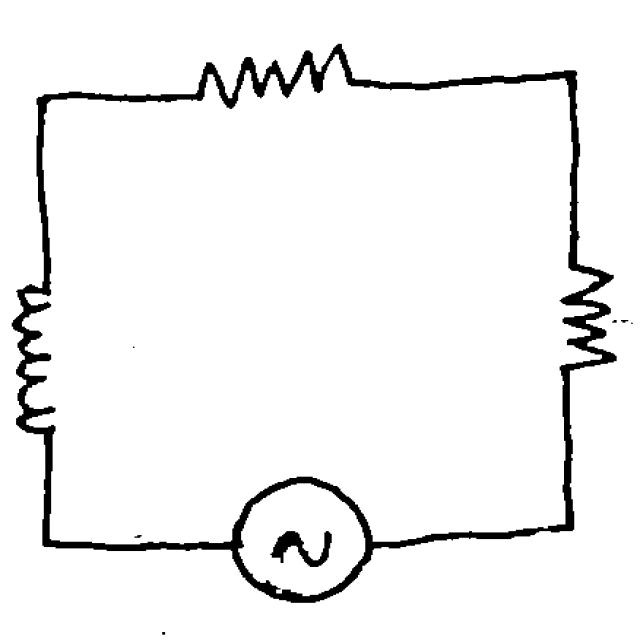ac: (220, 466, 388, 609)
inductor: (5, 269, 83, 450)
resistor: (173, 23, 374, 125), (526, 236, 626, 390)
